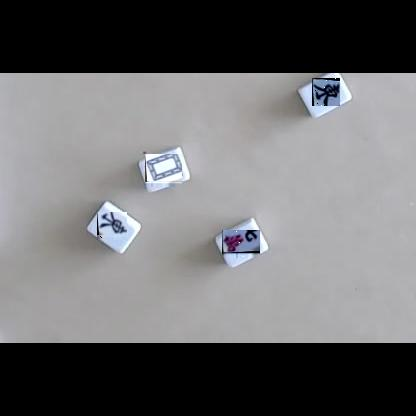1z: (97, 213, 127, 240), (312, 78, 340, 106)
5z: (145, 155, 182, 187)
7m: (222, 231, 260, 258)
